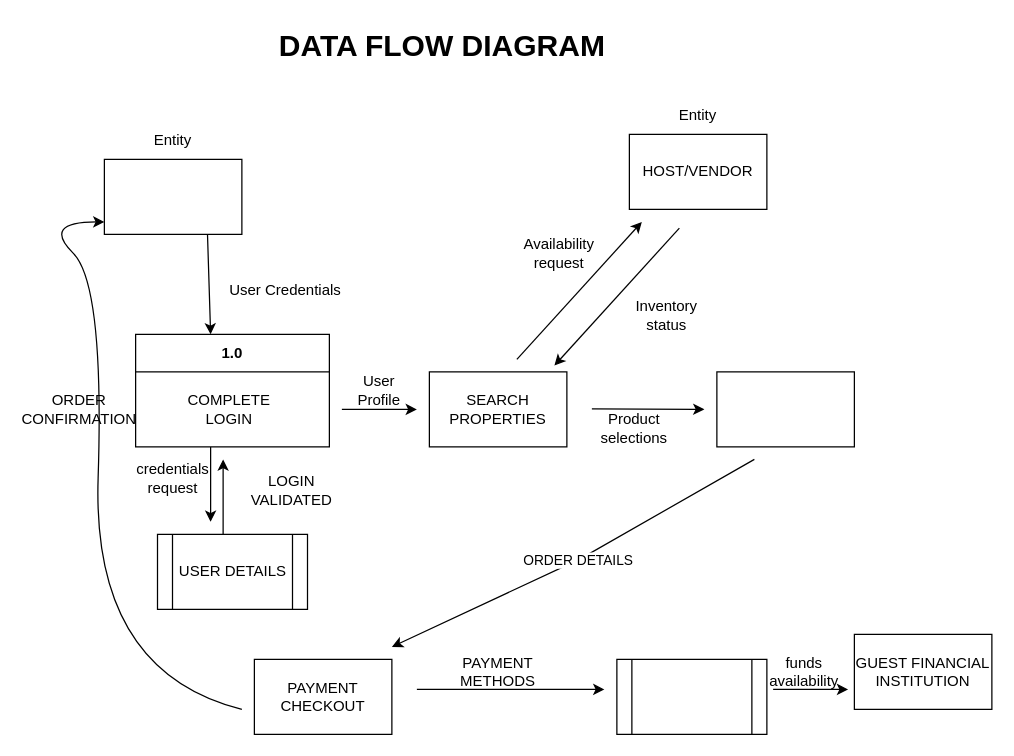
Image size: 1014x756. Some labels were removed from this diagram. The centre of each missing label's shape, as x and y in pixels:
GUEST: the point at 172,196
MANAGE BOOKINGS / CART: the point at 785,409
PAYMENT DETAILS: the point at 691,696
